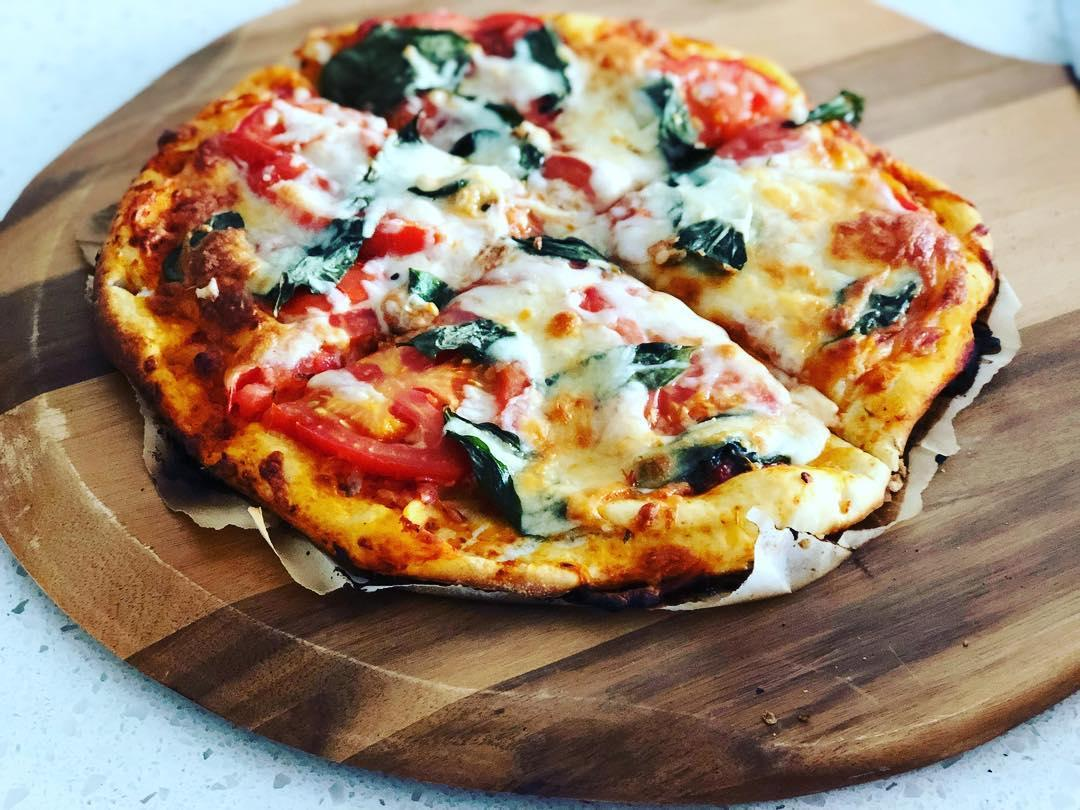Basil: (440, 399, 577, 535), (530, 330, 698, 416), (637, 404, 786, 495), (390, 265, 509, 364), (322, 22, 457, 107), (264, 224, 373, 305), (829, 265, 913, 343), (517, 25, 571, 115), (654, 84, 709, 171), (445, 127, 549, 171), (670, 224, 746, 272), (815, 75, 865, 139)
Cheese: (370, 152, 500, 263), (695, 285, 806, 385), (579, 107, 666, 231), (490, 254, 629, 329), (692, 174, 797, 224), (796, 166, 894, 212), (752, 228, 825, 273)
Pizza: (97, 9, 993, 608)
Tomatoes: (262, 385, 468, 489), (217, 97, 338, 221), (669, 54, 806, 156), (219, 300, 334, 412), (378, 209, 448, 256), (535, 155, 597, 193)
